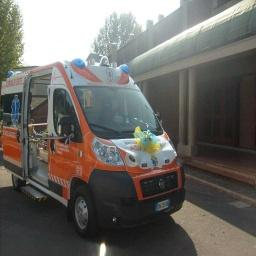ambulance: (1, 57, 184, 235)
